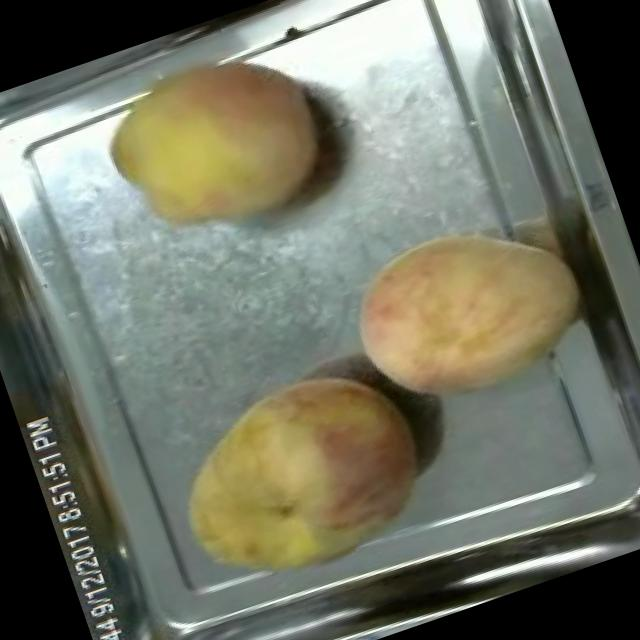Fruit: (142, 336, 454, 624), (76, 6, 357, 266), (322, 186, 608, 436)
